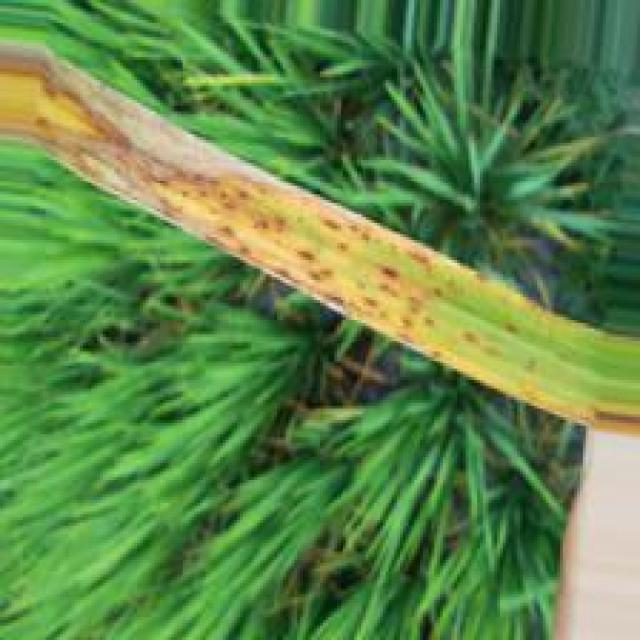Narrow_Brown_Leaf_Spot: (0, 36, 452, 369), (451, 347, 640, 436)
